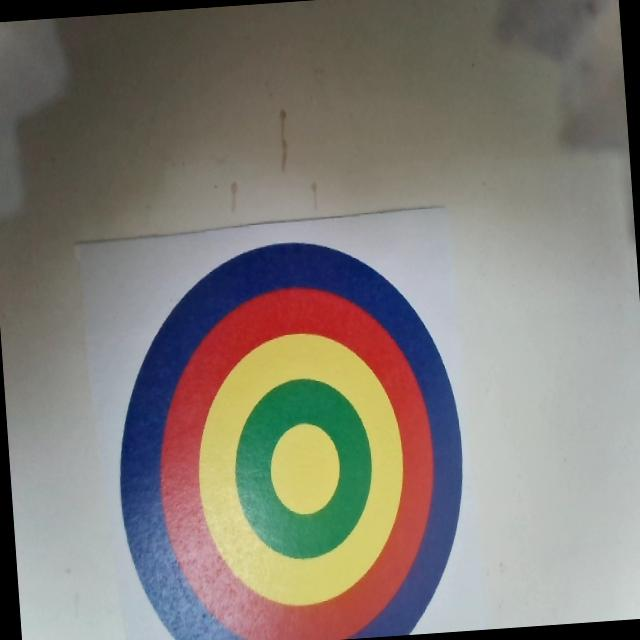cogn: (103, 227, 476, 640)
